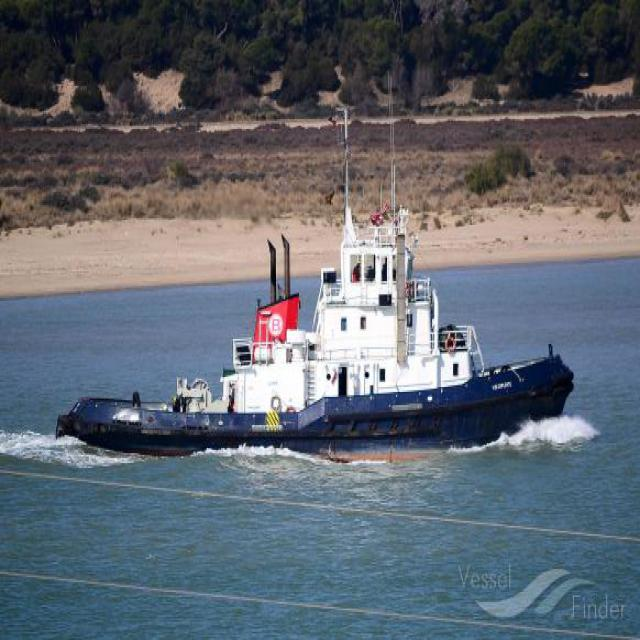tugboat: (58, 161, 572, 457)
